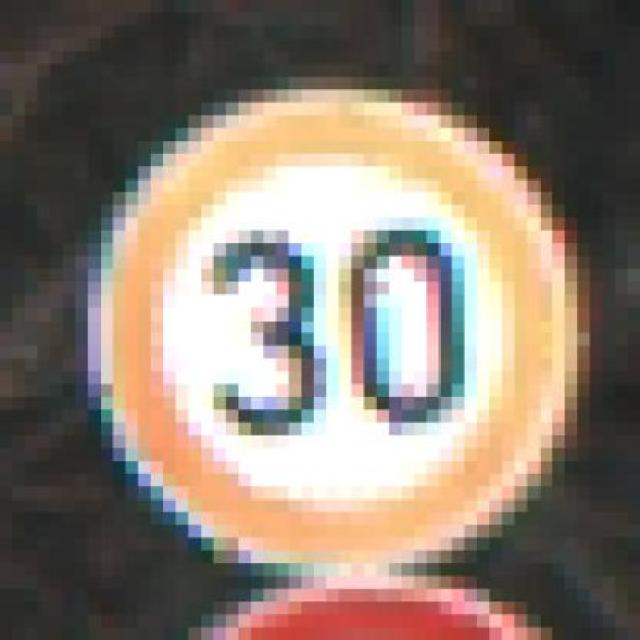Speed Limit 30 KMPh: (75, 52, 602, 576)
